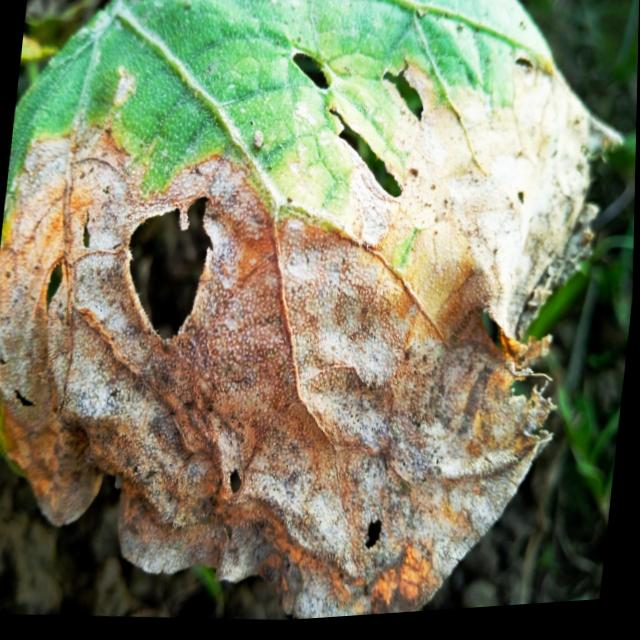Anthracnose: (273, 37, 434, 209), (112, 179, 224, 352), (38, 204, 94, 320), (349, 507, 394, 553), (221, 455, 250, 508)
